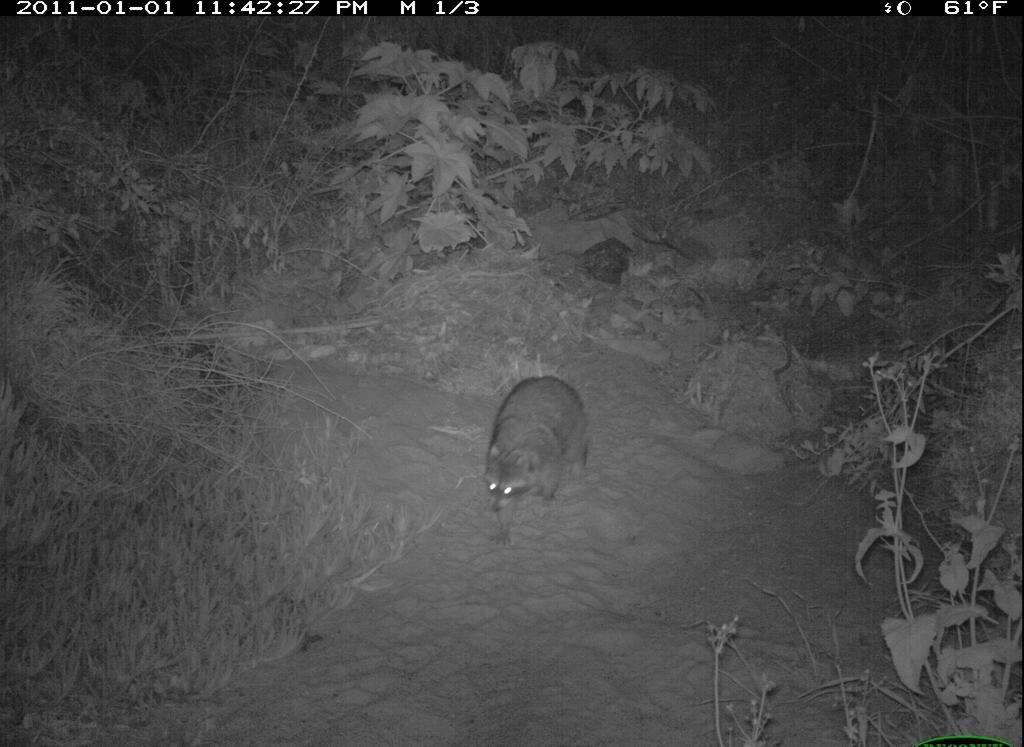raccoon: (479, 372, 596, 551)
